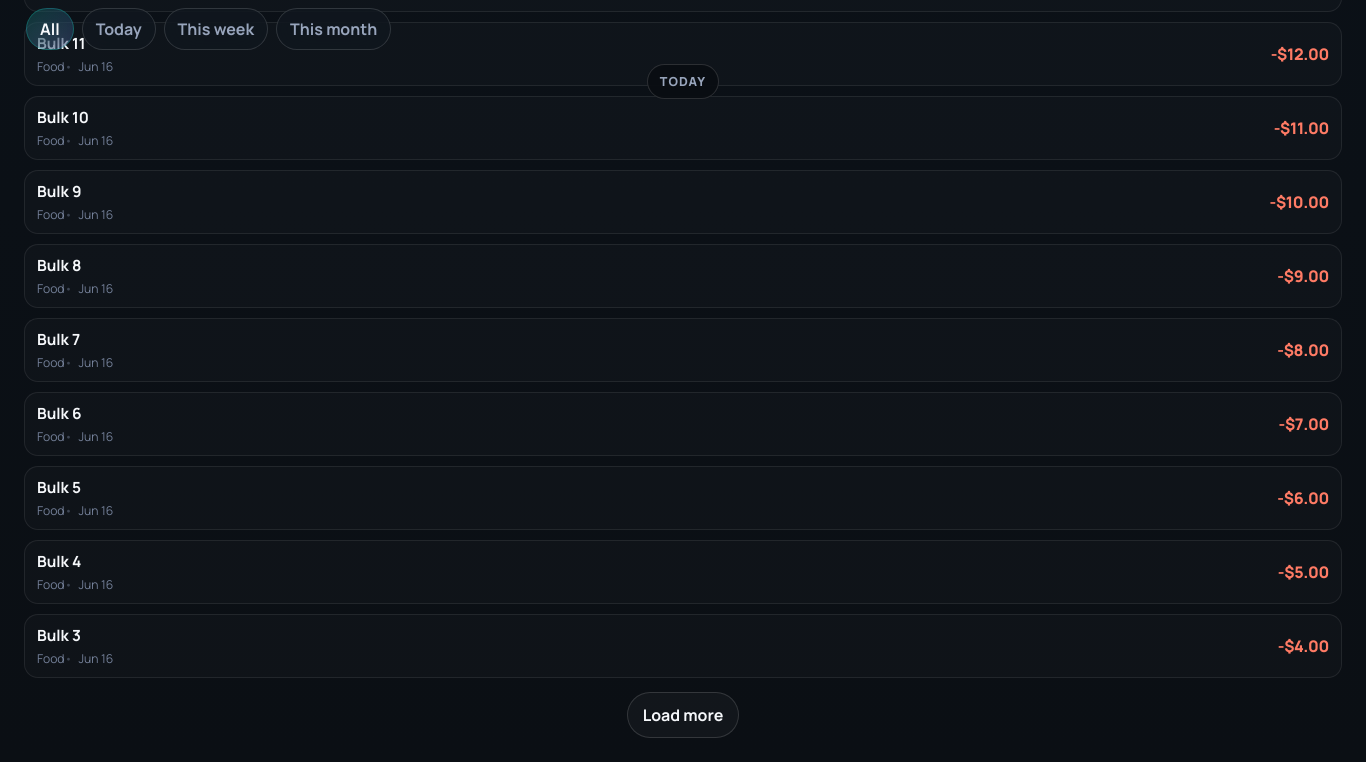
TransactionsScreen › applies quick date presets and resets visible count on load more
(page scrolled)
Click the button "Load more".
click(683, 715)  # box [627, 692, 739, 738]
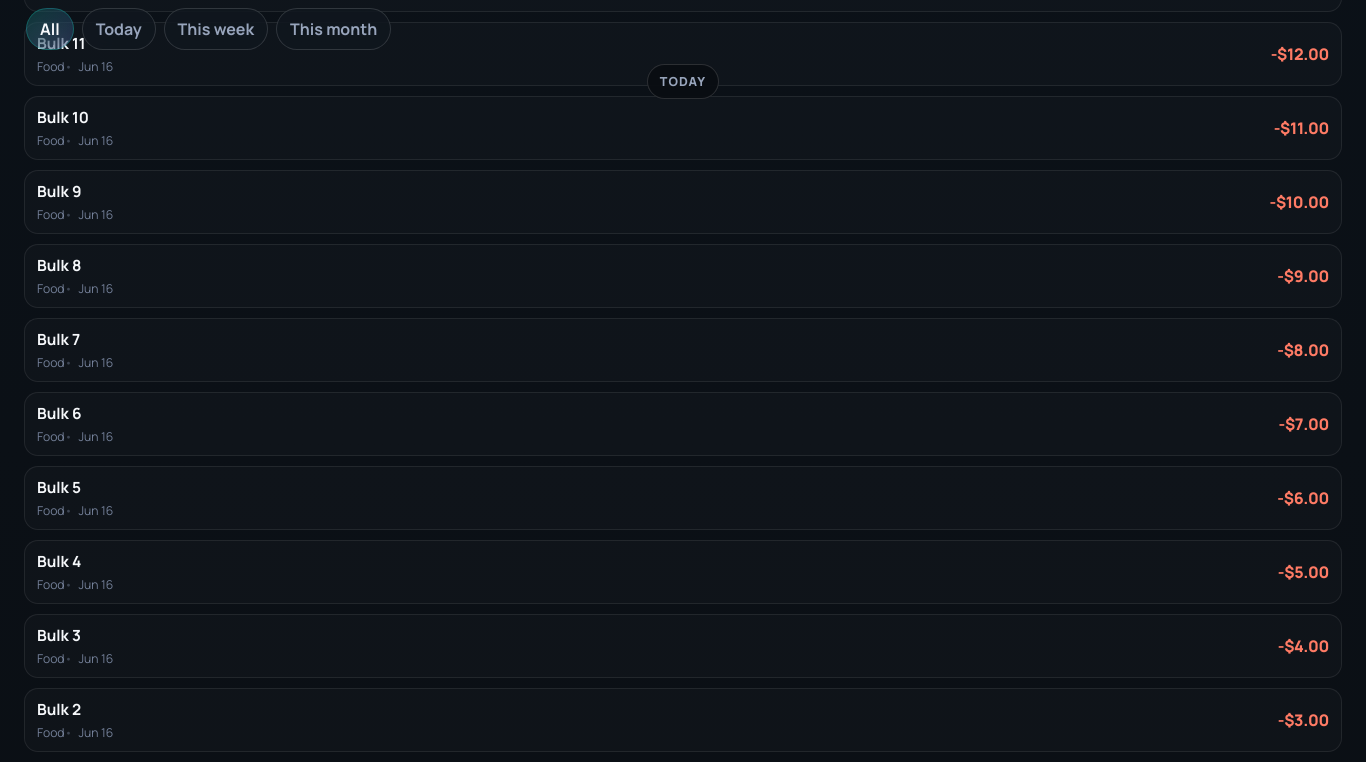
Now the button "Load more" is gone
Click the button "Today".
click(119, 29)  # box [82, 8, 156, 50]
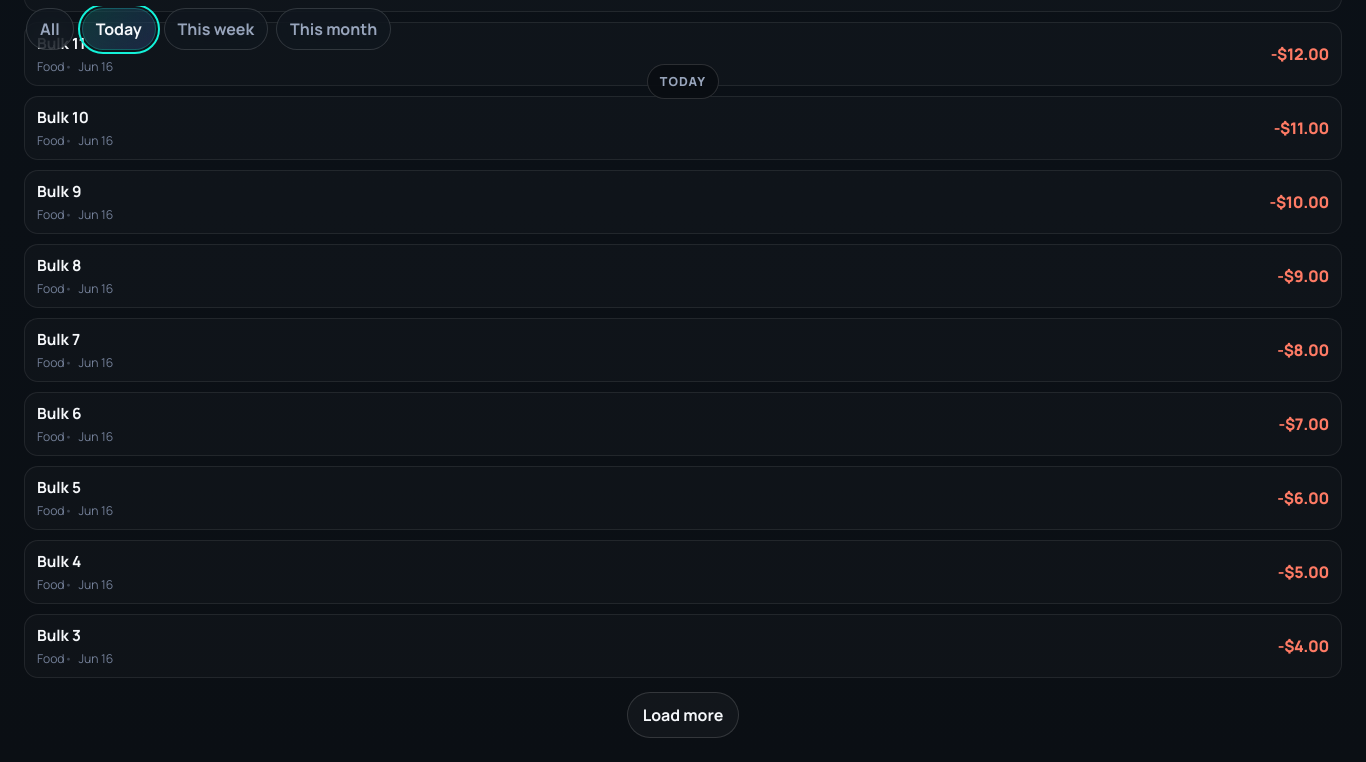
Now the button "Load more" is shown, box [627, 692, 739, 738]
